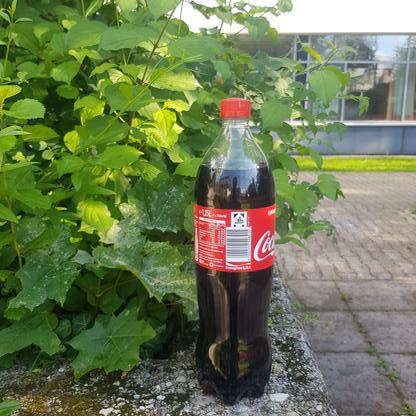coca-cola: (191, 97, 278, 407)
